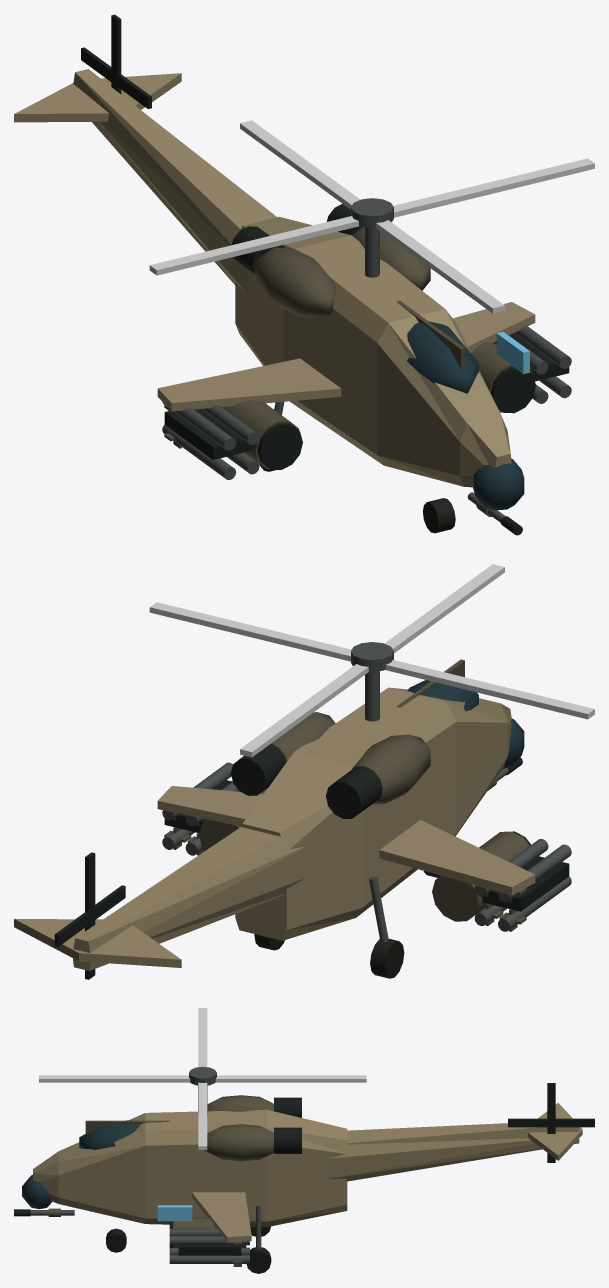
Rendered from gunship-lod.glb.
3 views of the same model, one above another, from view 1: azimuth 30°, elevation 25°; view 2: azimuth 150°, elevation 25°; view 3: azimuth 270°, elevation 25° (orthographic). The views are drawn at different scales.
Parts seen in each view (by area): view 1: equipment (×6), marking; view 2: equipment (×6); view 3: equipment (×6), marking.
Part boxes in pixels (left/top/right/bottom): equipment (×6): left=14, top=14, right=594, bottom=533; marking: left=496, top=331, right=529, bottom=374; equipment (×6): left=14, top=564, right=594, bottom=979; equipment (×6): left=14, top=1008, right=594, bottom=1273; marking: left=157, top=1205, right=192, bottom=1221.
Bounding box in the file's own units: 4.7 × 2.86 × 8.34.
